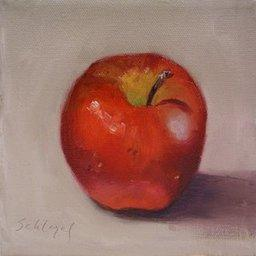apple: (59, 52, 207, 212)
